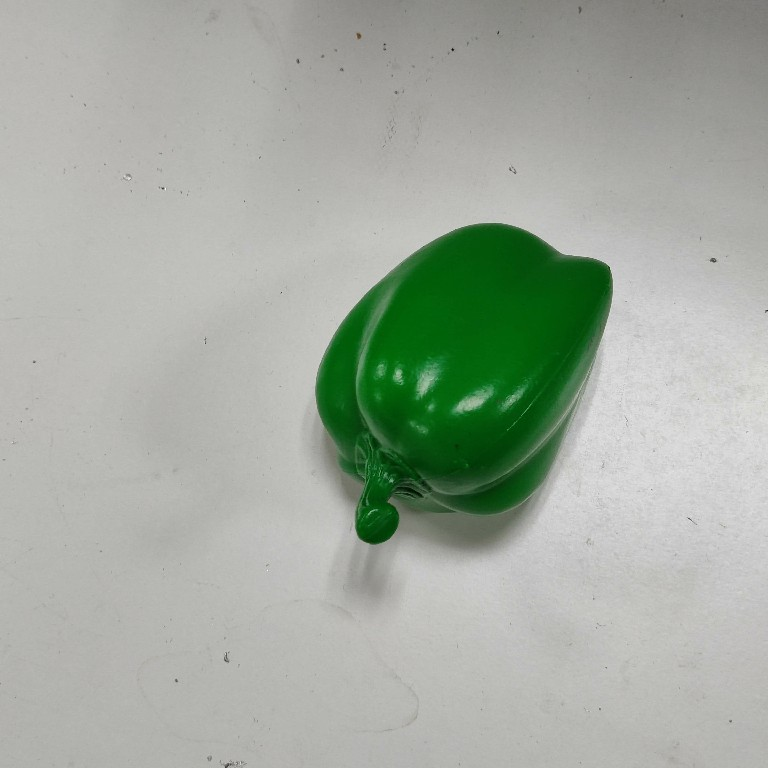fruit_pepper: (311, 218, 617, 548)
